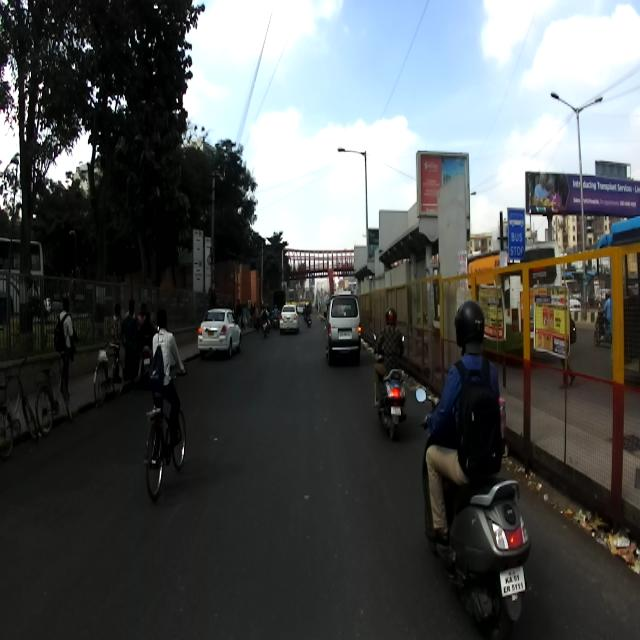bicycle ahead at: (138, 400, 195, 502)
car ahead at: (324, 285, 370, 367)
motorcycle ahead at: (442, 471, 536, 635), (369, 371, 412, 443)
